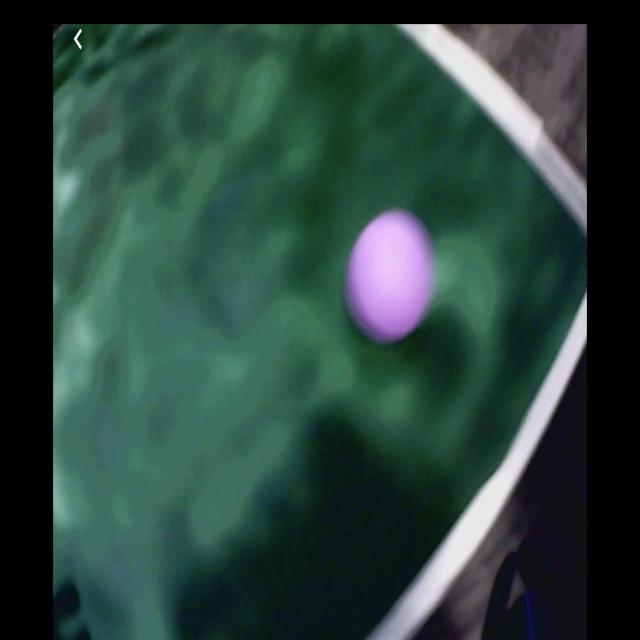ball: (347, 207, 436, 340)
